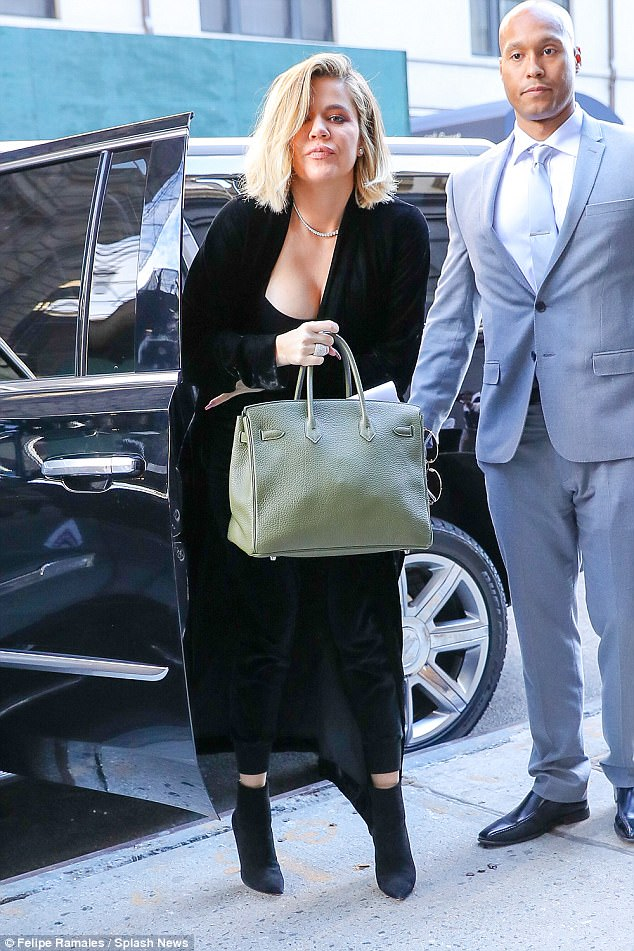Person: (189, 66, 420, 935), (445, 1, 634, 885)
